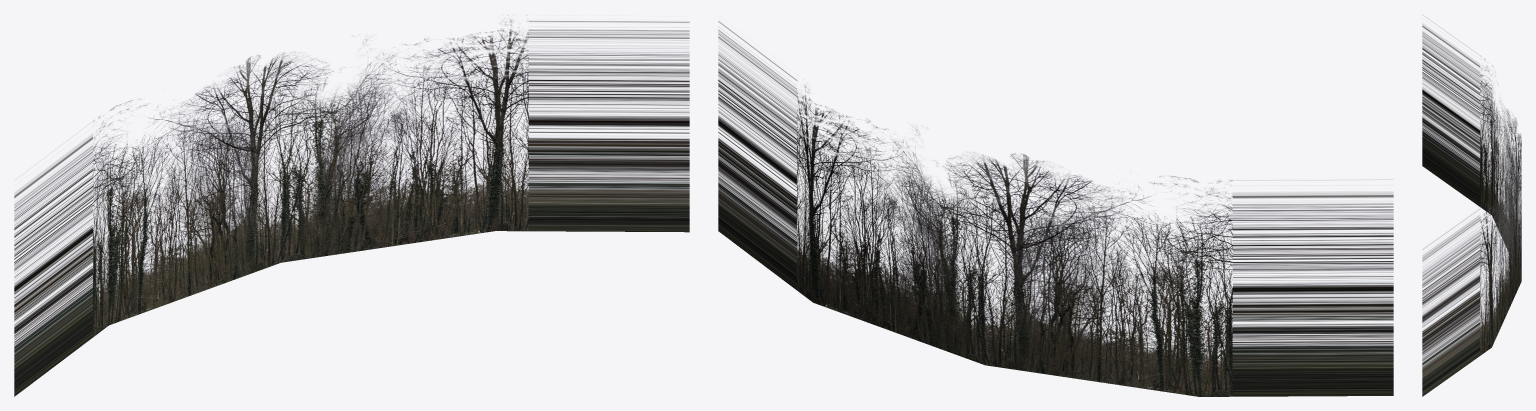
Rendered from OutOfBoundsTexture.glb.
3 renders of one model, left to right at view 1: azimuth 30°, elevation 25°; view 2: azimuth 150°, elevation 25°; view 3: azimuth 270°, elevation 25°, orthographic. The views are drawn at different scales.
Visible parts, largest first — view 1: OutOfBoundsTexture; view 2: OutOfBoundsTexture; view 3: OutOfBoundsTexture.
Boxes of the visible parts, box(x1,y1,x2,y2) form: OutOfBoundsTexture: box(14, 15, 689, 396); OutOfBoundsTexture: box(718, 21, 1393, 396); OutOfBoundsTexture: box(1422, 15, 1521, 396).
Bounding box in the file's own units: 11.98 × 3.68 × 2.18.
1 material, 1 textured.
